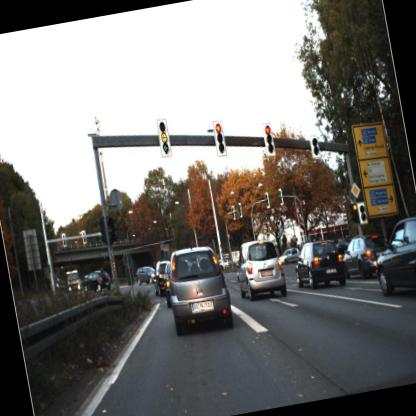other: (347, 178, 364, 202)
